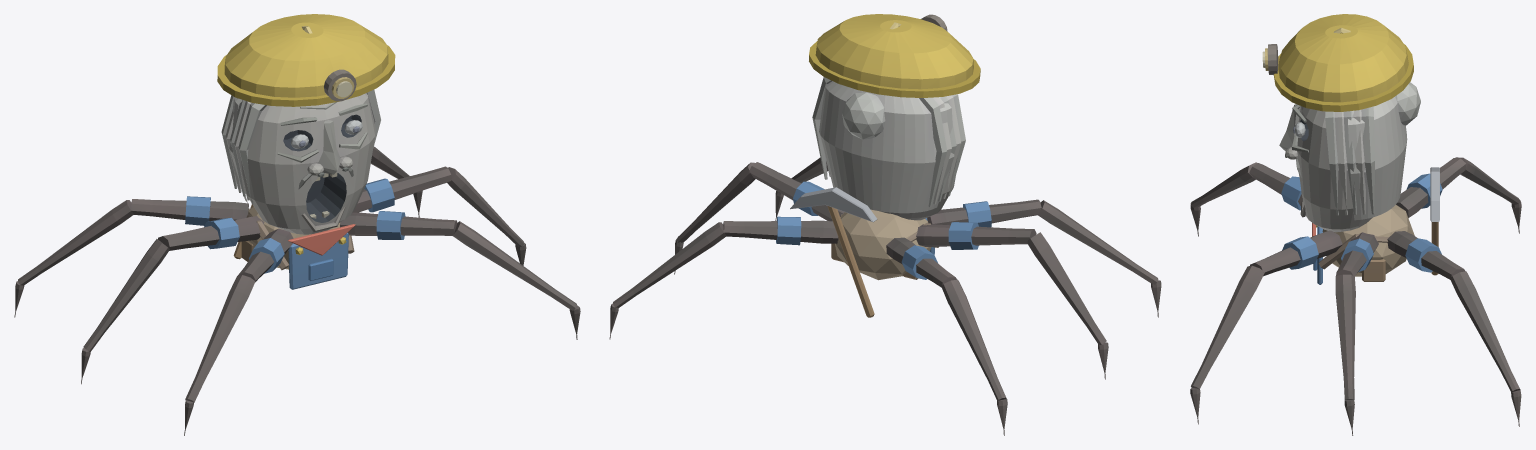
Rendered from SpiderMomMiner.glb.
The picture shows the model from 3 angles, left to right: view 1: azimuth 30°, elevation 25°; view 2: azimuth 150°, elevation 25°; view 3: azimuth 270°, elevation 25°; orthographic projection. The views are drawn at different scales.
Parts seen in each view (by area): view 1: Head, Body, ArmL, LegR, ArmR, LegL; view 2: Head, Body, LegL, ArmR, LegR, ArmL; view 3: Head, Body, ArmL, LegL, LegR, ArmR.
Boxes of the visible parts, x1,y1,x2,y2 form: Head: [217, 14, 395, 234]; Body: [81, 166, 526, 384]; ArmL: [340, 211, 580, 339]; LegR: [14, 196, 248, 317]; ArmR: [184, 228, 293, 435]; LegL: [370, 146, 422, 217]; Head: [809, 14, 980, 220]; Body: [674, 162, 1108, 379]; LegL: [609, 216, 837, 339]; ArmR: [927, 199, 1161, 317]; LegR: [886, 237, 1007, 435]; ArmL: [775, 157, 828, 220]; Head: [1262, 14, 1420, 232]; Body: [1312, 167, 1439, 435]; ArmL: [1190, 230, 1342, 424]; LegL: [1387, 231, 1521, 426]; LegR: [1396, 157, 1521, 233]; ArmR: [1190, 162, 1302, 236].
Bounding box in the file's own units: 6.21 × 4.12 × 4.11.
